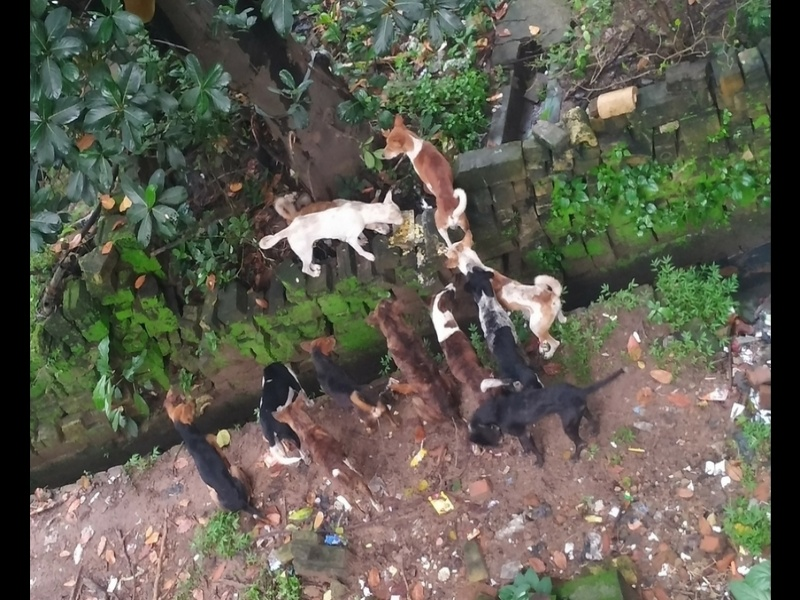dog: (471, 362, 627, 470), (443, 238, 568, 360), (251, 189, 402, 285), (163, 385, 264, 516), (276, 393, 379, 521), (383, 112, 473, 244), (369, 299, 452, 435), (306, 334, 394, 423), (469, 268, 532, 386), (425, 285, 489, 395), (255, 356, 301, 476)
